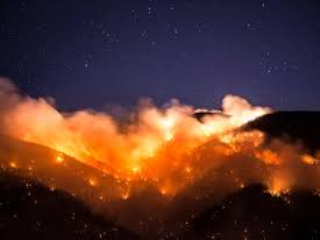fire: (119, 165, 171, 199), (260, 178, 289, 198), (49, 149, 65, 167), (86, 176, 101, 189)
smoke: (129, 90, 268, 146), (30, 98, 140, 155)
